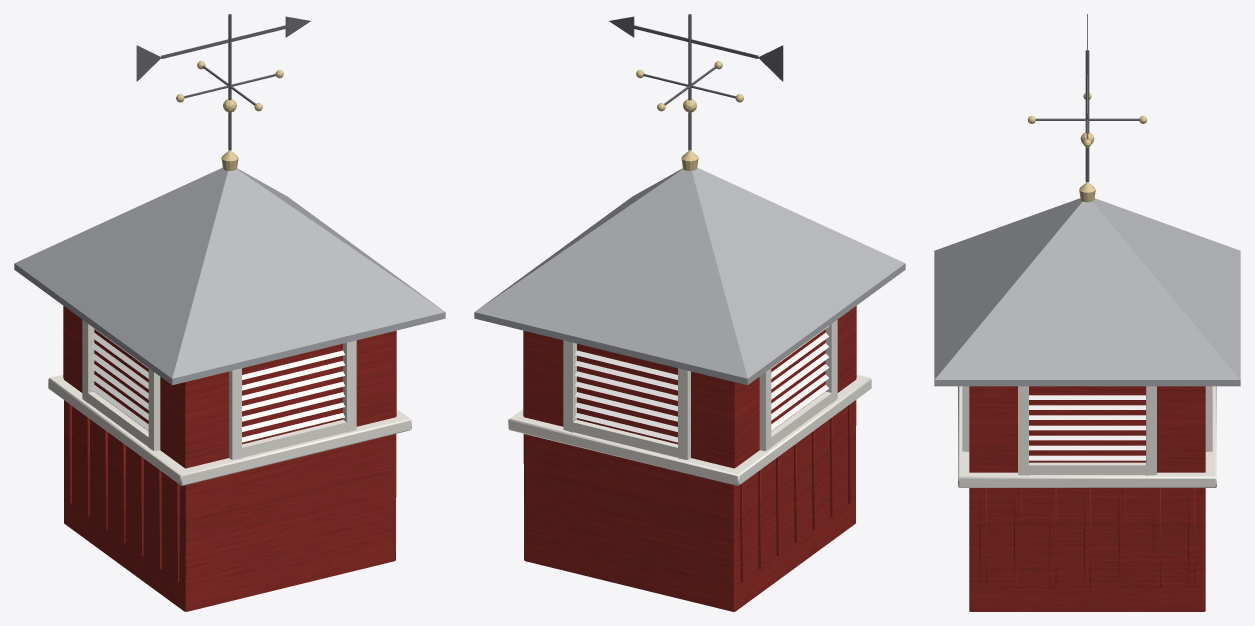
File: cupola.glb
3 renders of one model, left to right at view 1: azimuth 30°, elevation 25°; view 2: azimuth 150°, elevation 25°; view 3: azimuth 270°, elevation 25°, orthographic. The views are drawn at different scales.
Visible parts, largest first — view 1: cupola_barn, cupola_metal, cupola_trim, cupola_paint_w, cupola_iron, cupola_brass; view 2: cupola_barn, cupola_metal, cupola_trim, cupola_paint_w, cupola_iron, cupola_brass; view 3: cupola_metal, cupola_barn, cupola_trim, cupola_paint_w, cupola_iron, cupola_brass.
Boxes of the visible parts, x1,y1,x2,y2 form: cupola_barn: (63, 306, 396, 611); cupola_metal: (14, 167, 445, 385); cupola_trim: (48, 320, 411, 485); cupola_paint_w: (90, 326, 344, 442); cupola_iron: (136, 14, 310, 150); cupola_brass: (176, 61, 283, 170); cupola_barn: (523, 306, 856, 611); cupola_metal: (474, 167, 905, 385); cupola_trim: (508, 320, 871, 485); cupola_paint_w: (575, 326, 829, 442); cupola_iron: (609, 14, 783, 150); cupola_brass: (636, 61, 743, 170); cupola_metal: (934, 198, 1240, 386); cupola_barn: (969, 386, 1205, 611); cupola_trim: (958, 386, 1216, 487); cupola_paint_w: (1029, 395, 1145, 460); cupola_iron: (1035, 14, 1139, 182); cupola_brass: (1027, 93, 1147, 202).
Size of the model in its own units: 2.2 by 4.05 by 2.2.
Materials: 7 (1 with a texture image).
